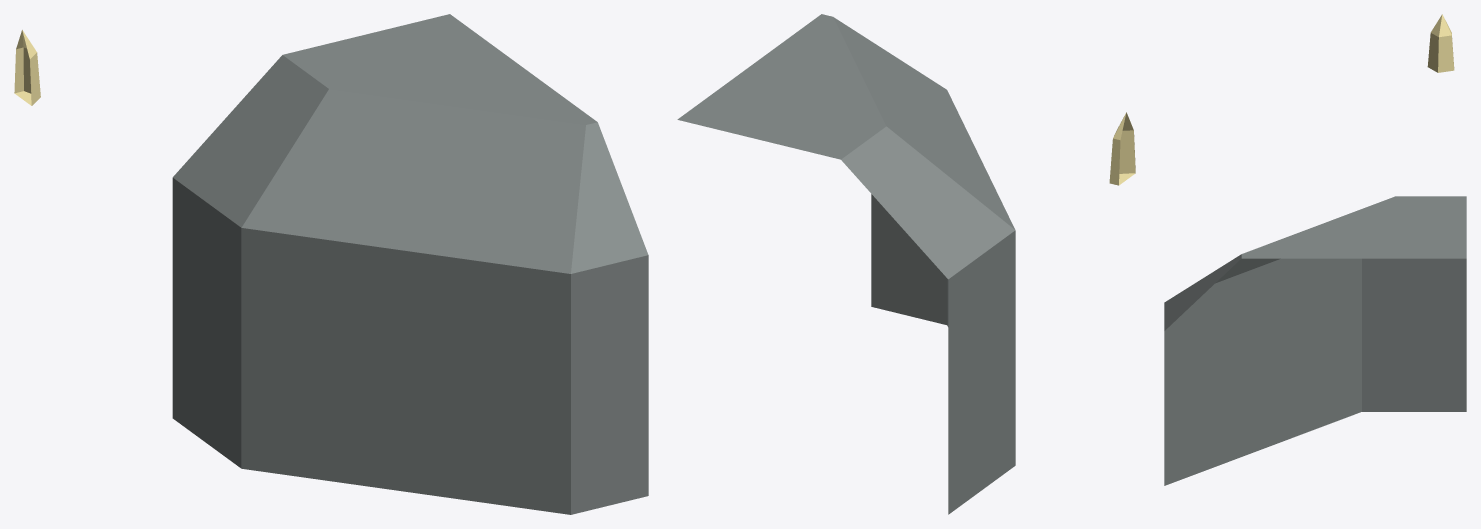
File: cell_143.obj
The picture shows the model from 3 angles, left to right: view 1: azimuth 30°, elevation 25°; view 2: azimuth 150°, elevation 25°; view 3: azimuth 270°, elevation 25°; orthographic projection. The views are drawn at different scales.
Bounding box in the file's own units: 1 × 0.95 × 0.775.
